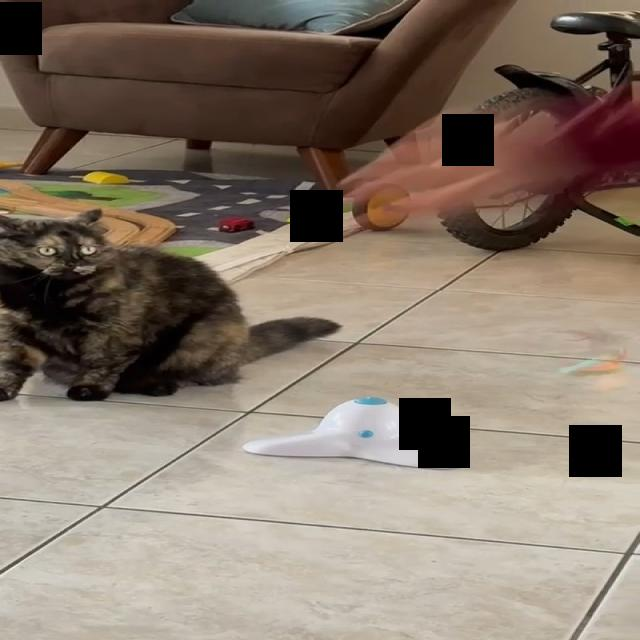authorized: (0, 206, 341, 401)
